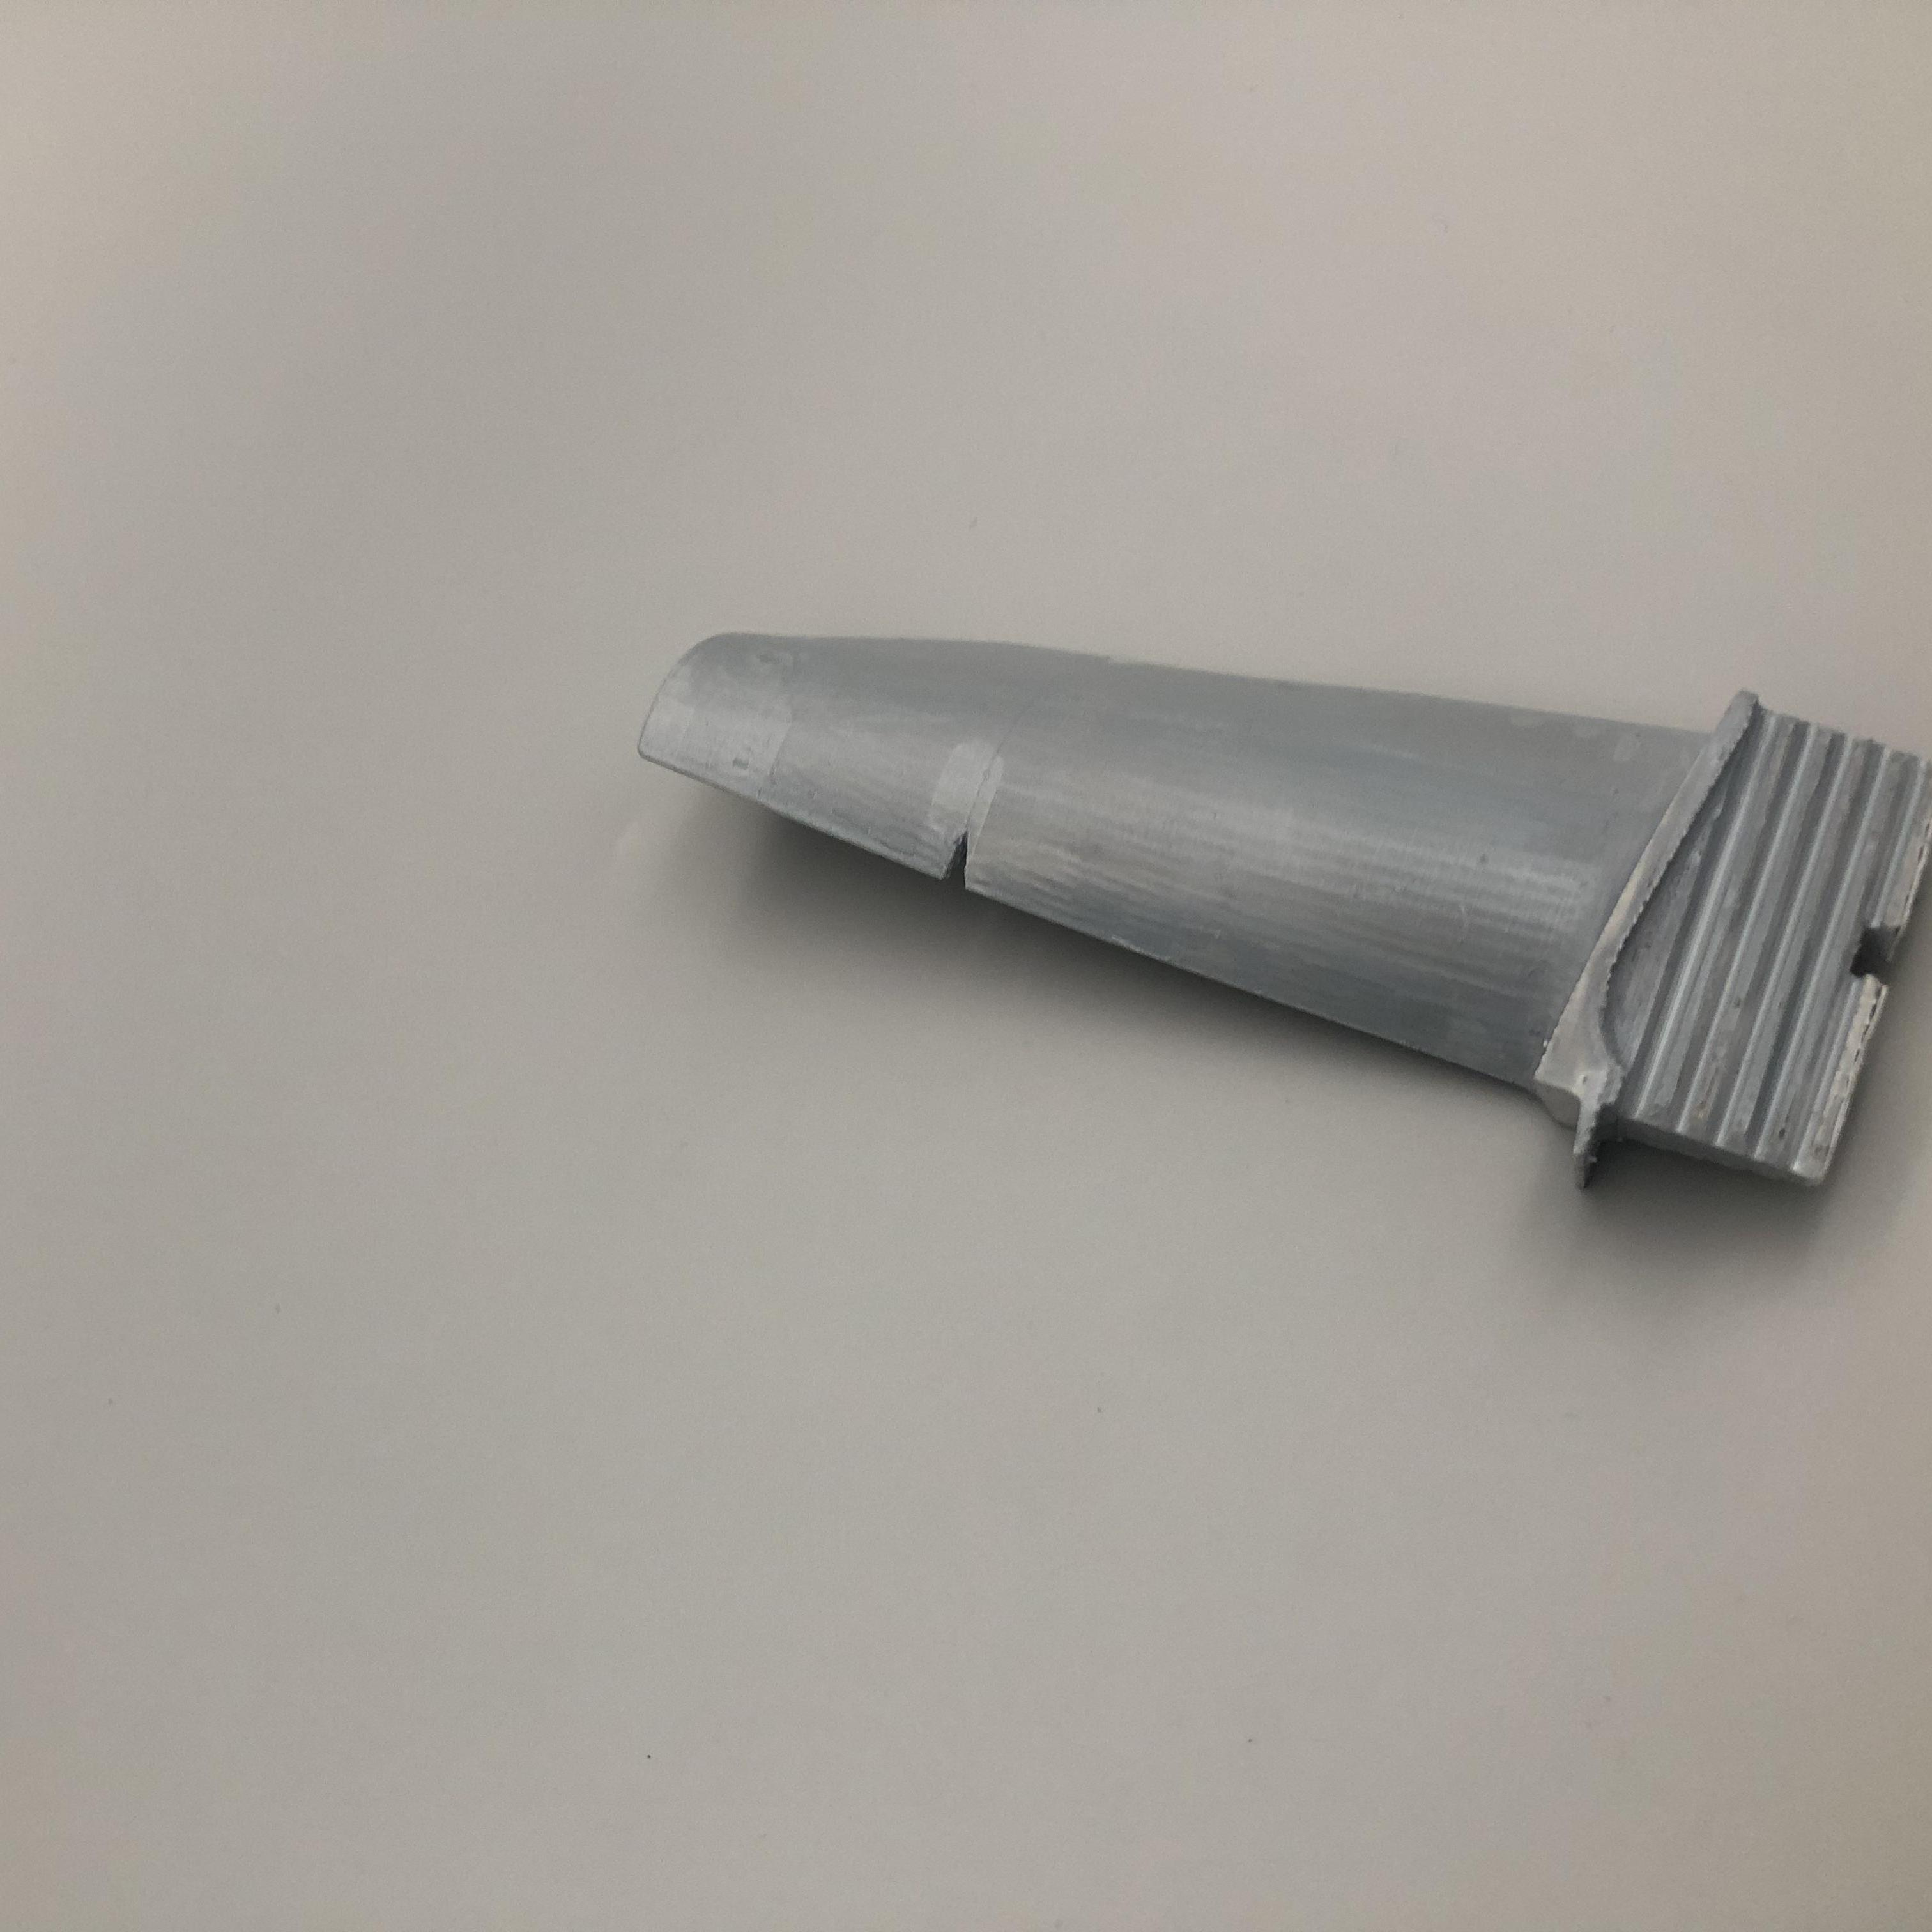groove: (936, 833, 987, 886)
